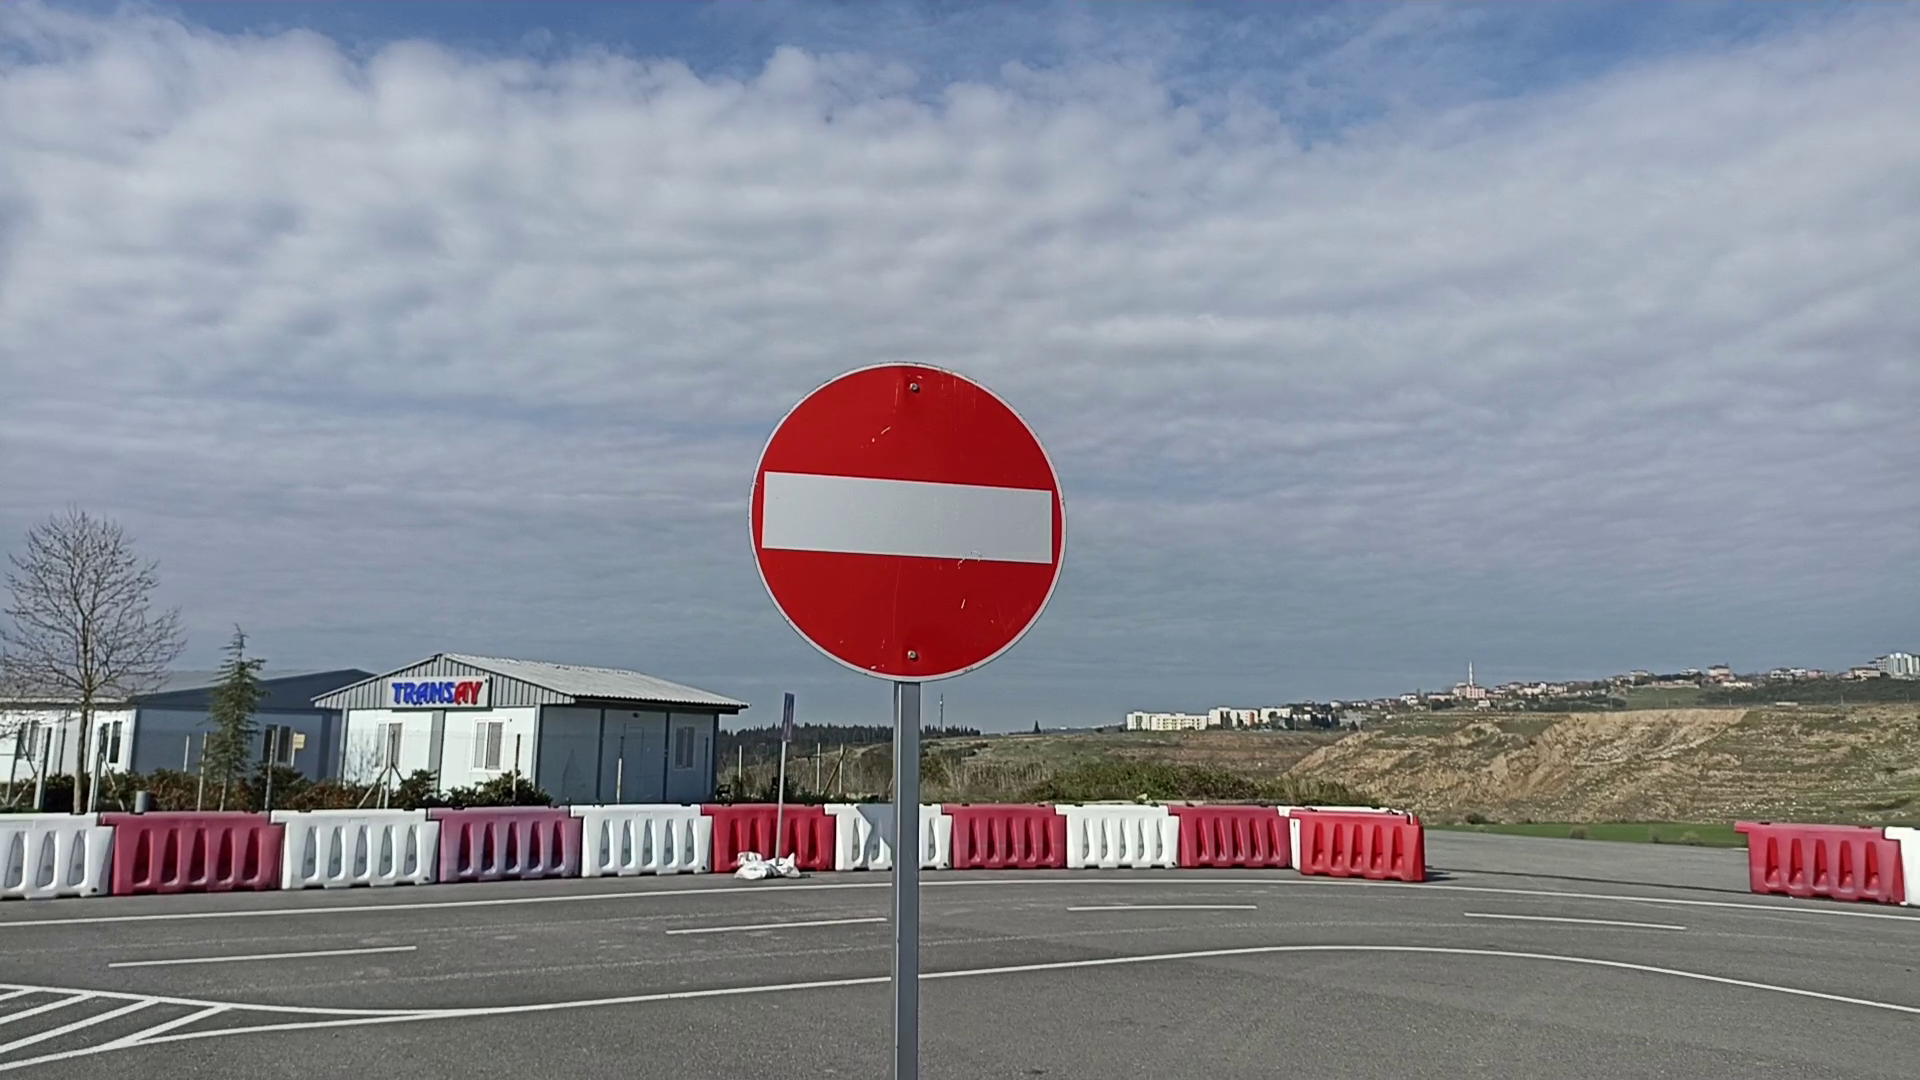noentryway: (740, 353, 1073, 688)
